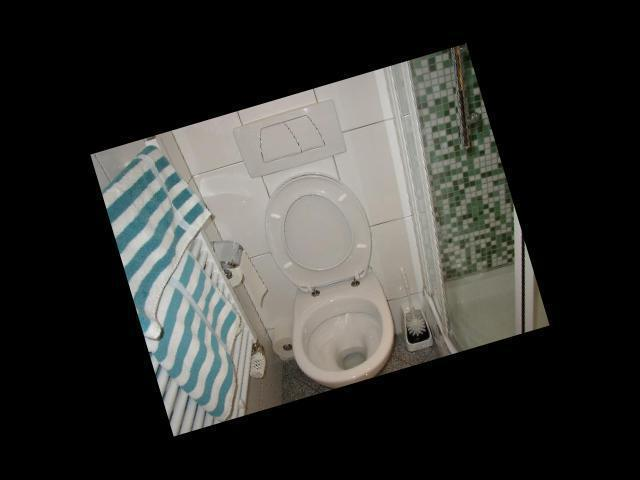Ducha: (357, 51, 549, 357)
Sanitario: (242, 163, 409, 398)
